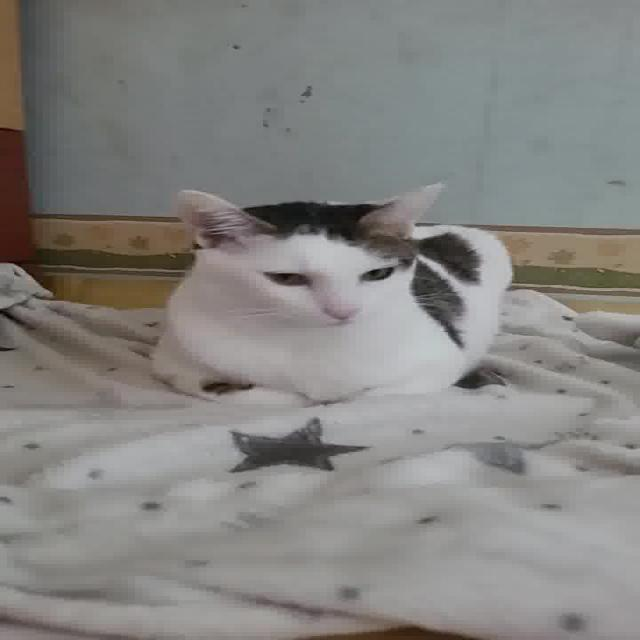cat: (153, 175, 517, 412)
